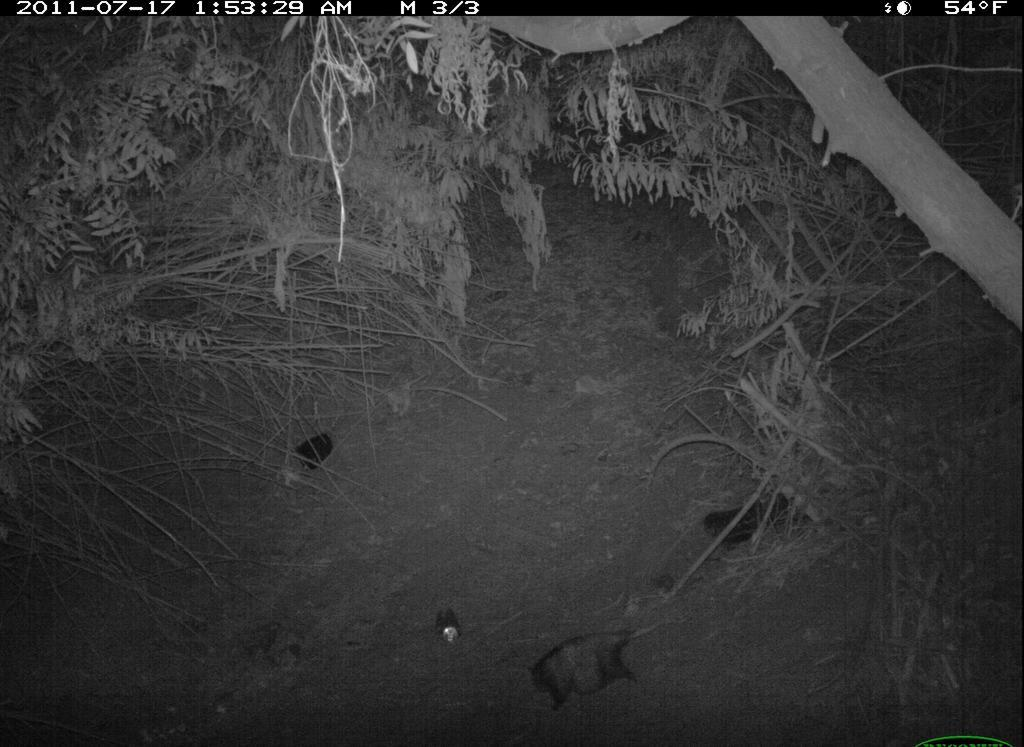opossum: (524, 612, 684, 719)
